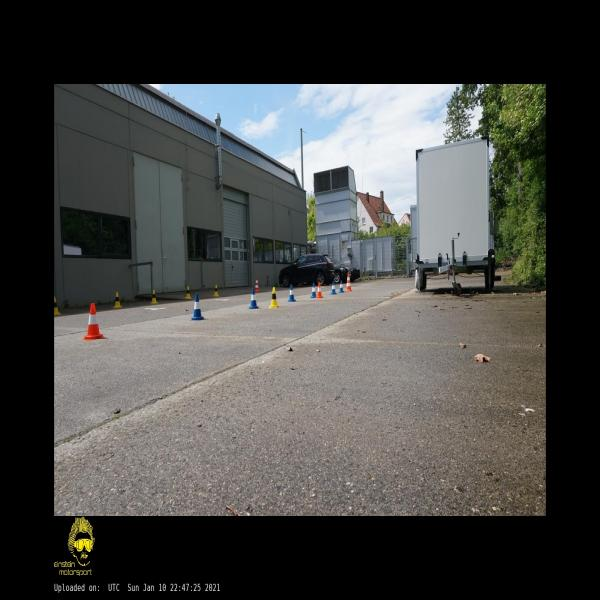blue_cone: (191, 294, 204, 320), (249, 288, 258, 308), (288, 284, 296, 302), (311, 282, 316, 298), (331, 282, 337, 294), (338, 281, 344, 293)
large_orange_cone: (345, 272, 352, 291), (255, 278, 260, 292)
orange_cone: (84, 304, 104, 340), (316, 282, 323, 298)
yellow_cone: (269, 287, 279, 308), (113, 292, 122, 308), (54, 297, 60, 314), (151, 290, 158, 304), (186, 286, 192, 299), (213, 284, 219, 296)
